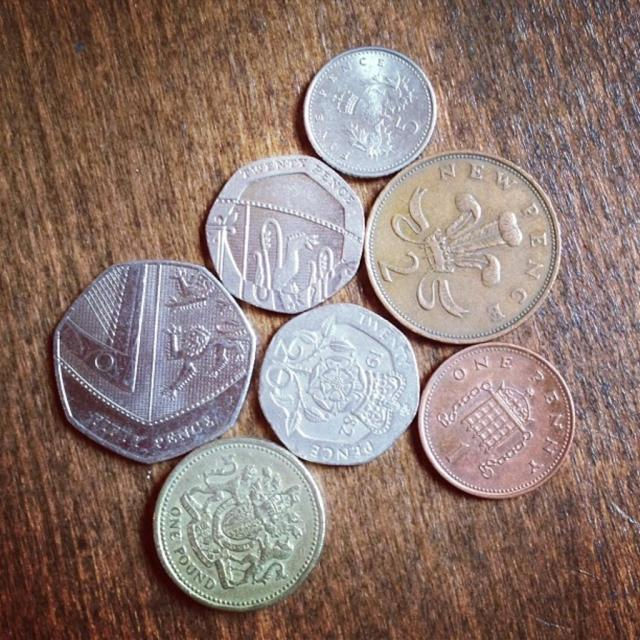Coin: (52, 259, 253, 467), (367, 150, 561, 343), (153, 436, 325, 608), (254, 302, 421, 470), (200, 153, 365, 312), (417, 338, 578, 500), (301, 49, 442, 179)
